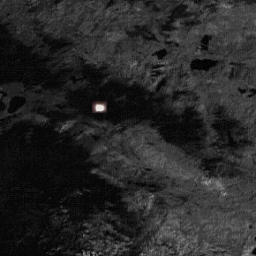Target: (92, 102, 107, 112)
